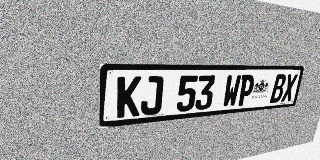3: (194, 75, 216, 110)
5: (176, 75, 198, 112)
B: (269, 74, 287, 103)
J: (140, 76, 164, 116)
K: (116, 76, 141, 118)
P: (236, 75, 256, 106)
W: (222, 75, 242, 108)
X: (281, 74, 298, 102)
